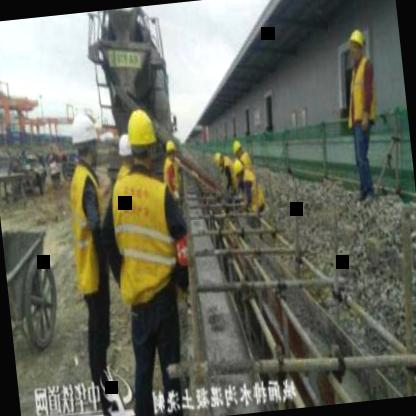helmet: (122, 102, 160, 174), (68, 109, 100, 164), (113, 127, 136, 174), (343, 27, 367, 64), (208, 146, 228, 175), (163, 133, 180, 167), (231, 156, 246, 186), (228, 136, 246, 160)
